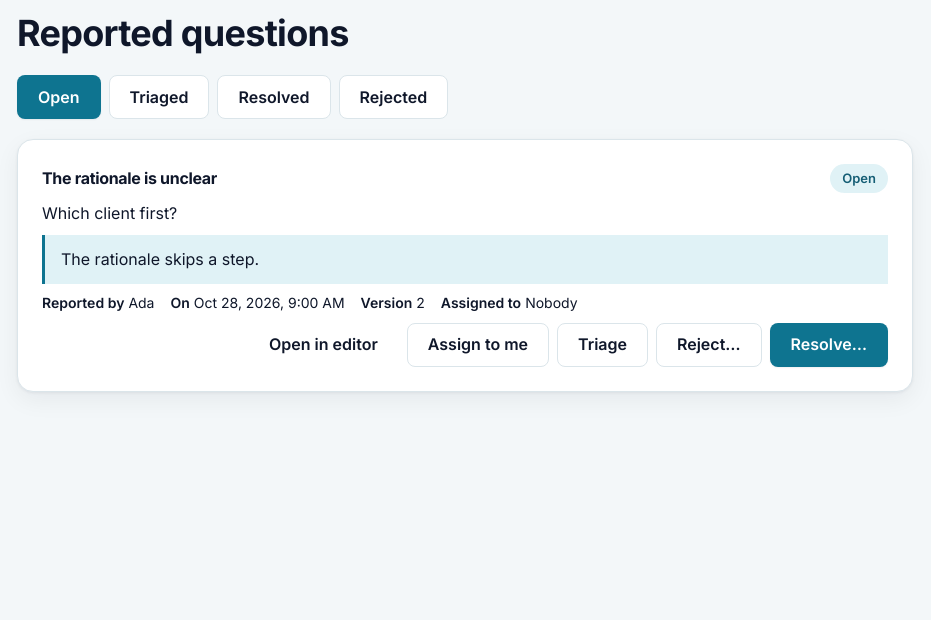
Test: ModerationQueue › explains when someone else closed the report first
Click the button "Reject…": (709, 345) [656,323,762,367]
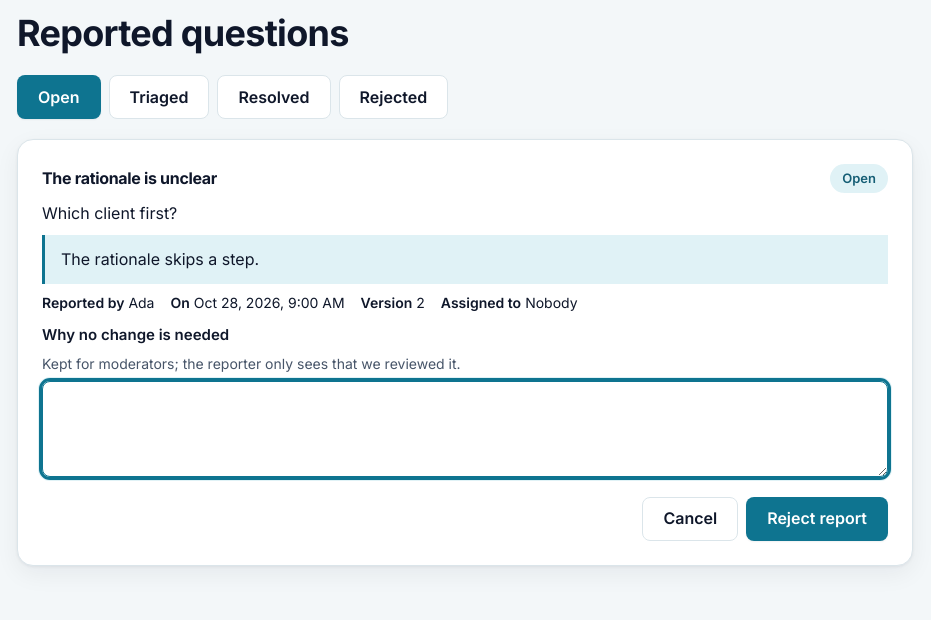
In the text box labelled "Why no change is needed": (465, 429) [42,381,888,477], type "Matches guidance."
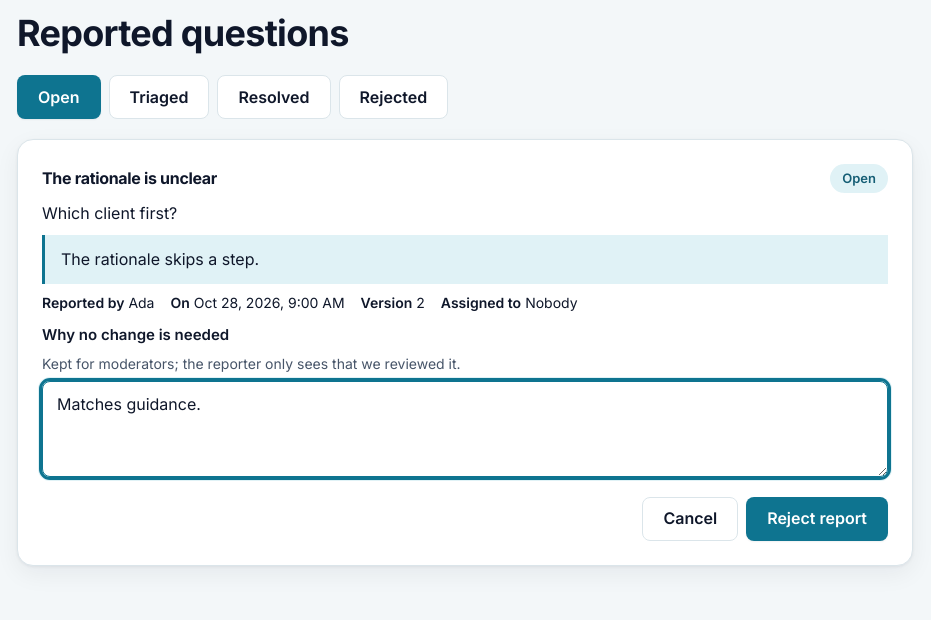
Click the button "Reject report": (817, 519) [746,497,888,541]
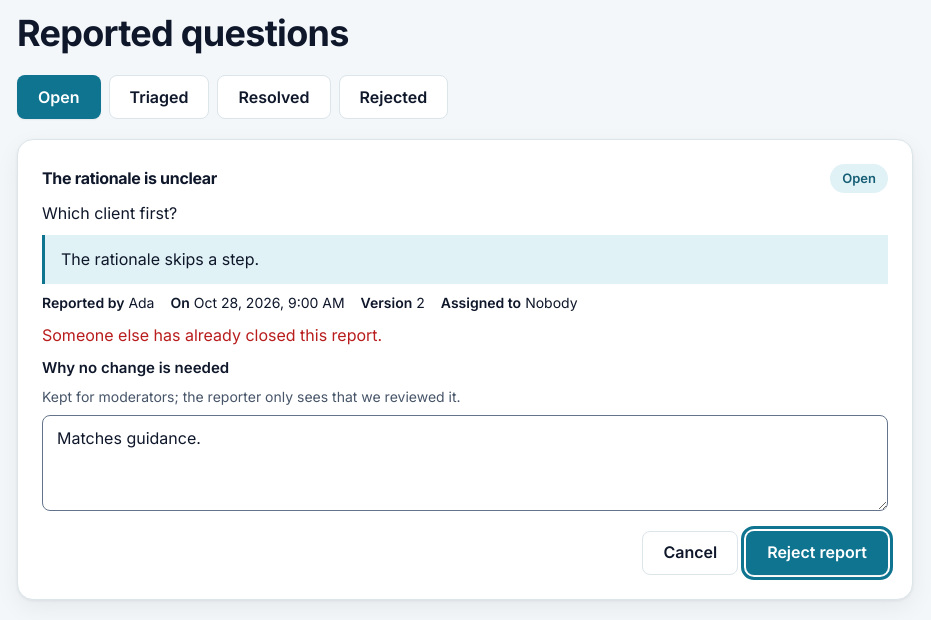
Expected: the message shows "already closed", [42,325,382,345]
